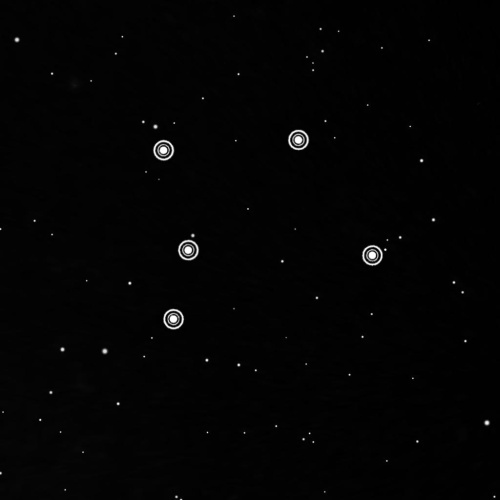libra: (144, 121, 394, 338)
